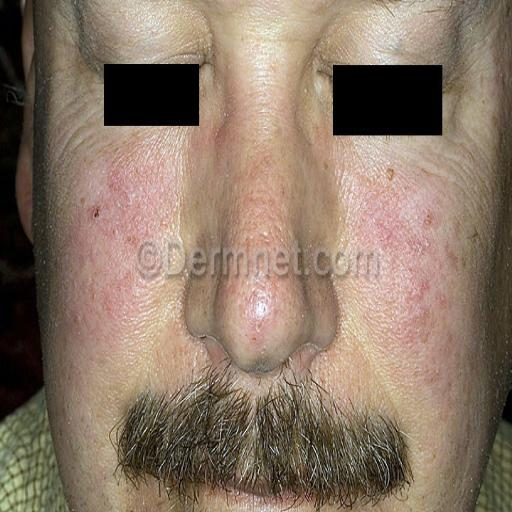Skin_Lesion: (191, 219, 213, 256), (104, 164, 129, 194), (373, 216, 396, 243), (423, 197, 443, 228), (249, 311, 270, 338), (88, 198, 104, 225), (378, 166, 396, 190), (446, 248, 462, 272), (466, 122, 480, 148), (106, 289, 124, 308), (417, 278, 432, 300), (437, 291, 452, 312), (346, 179, 361, 200), (212, 125, 225, 147), (85, 236, 96, 258), (470, 228, 482, 244), (84, 155, 96, 169), (320, 161, 331, 176), (454, 220, 464, 236)
